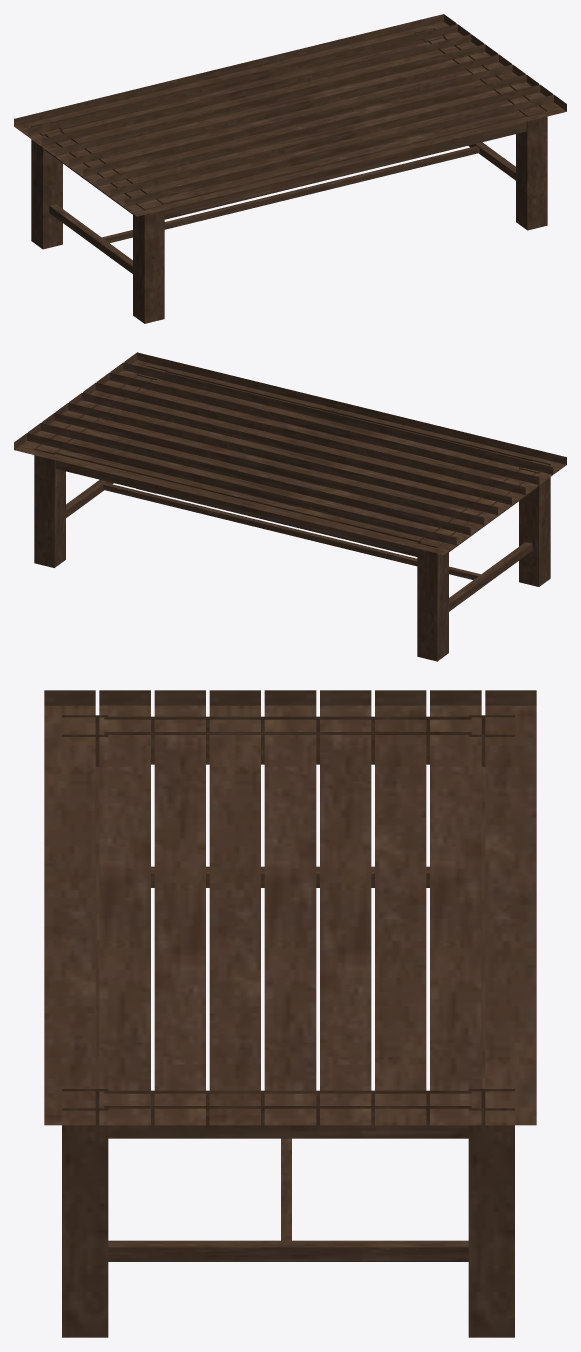
The model's file is bay-lounge-table.lod0.glb.
3 views of the same model, one above another, from view 1: azimuth 30°, elevation 25°; view 2: azimuth 150°, elevation 25°; view 3: azimuth 270°, elevation 25° (orthographic). The views are drawn at different scales.
Parts seen in each view (by area): view 1: LoungeTable_ProcessedWoodSmoothDark_0; view 2: LoungeTable_ProcessedWoodSmoothDark_0; view 3: LoungeTable_ProcessedWoodSmoothDark_0.
Boxes of the visible parts, bbox=[...] form: LoungeTable_ProcessedWoodSmoothDark_0: bbox=[14, 14, 566, 323]; LoungeTable_ProcessedWoodSmoothDark_0: bbox=[14, 352, 566, 661]; LoungeTable_ProcessedWoodSmoothDark_0: bbox=[44, 690, 536, 1337].
Bounding box in the file's own units: 1.2 × 0.323 × 0.5949.
1 material, 1 textured.
